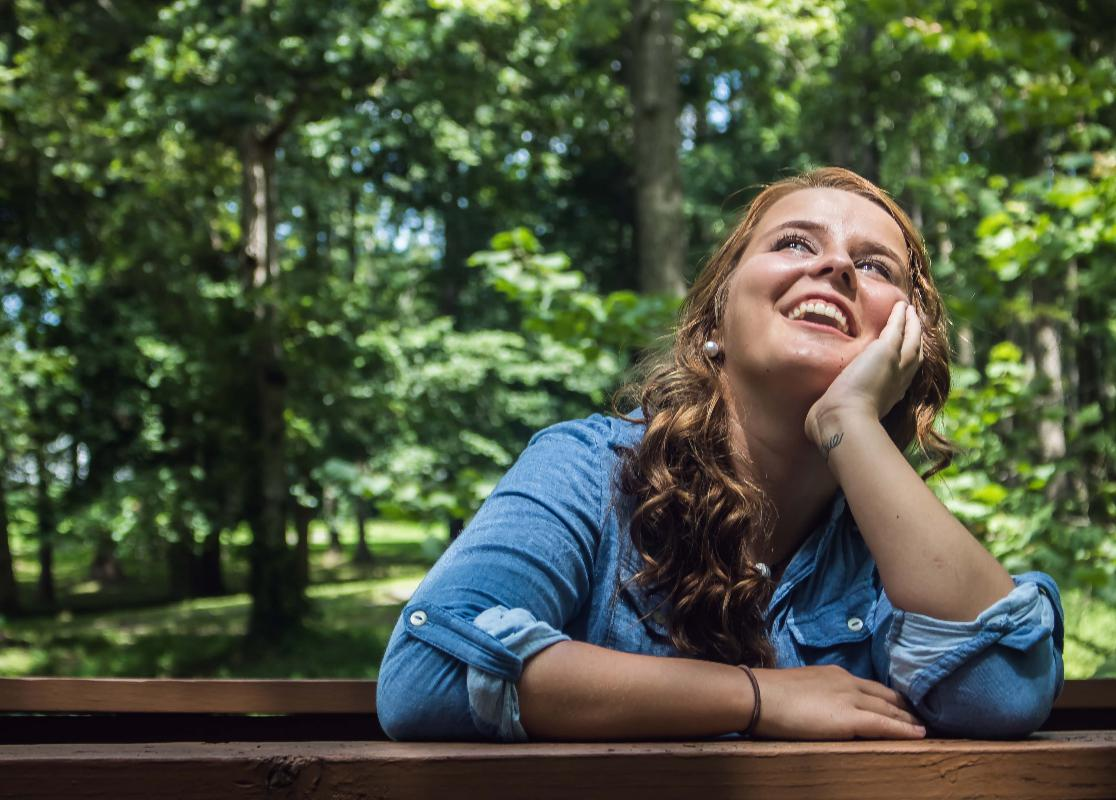Person: (369, 151, 1072, 751)
